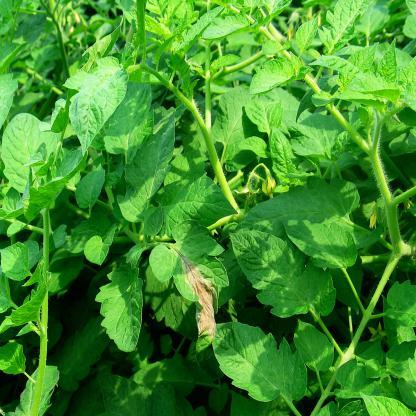Tomato leaf bacterial spot: (229, 225, 335, 333), (116, 104, 184, 236), (210, 327, 310, 406), (93, 250, 146, 356), (102, 68, 152, 178), (288, 208, 354, 279), (4, 109, 55, 193), (291, 317, 336, 375), (245, 62, 303, 94)
Tomato leaf mosaic virus: (153, 233, 228, 327)
